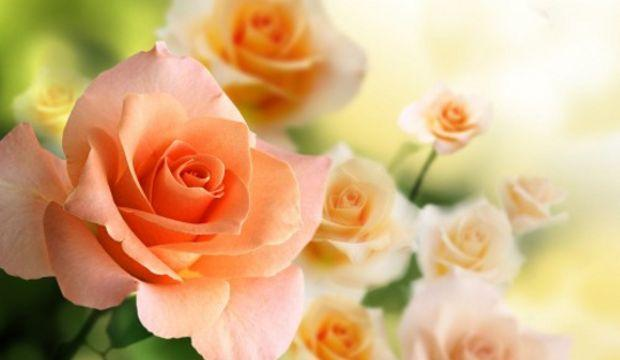Rose: (3, 47, 337, 358), (315, 139, 407, 276), (409, 284, 568, 360), (415, 193, 525, 301), (399, 67, 499, 161), (306, 286, 396, 360), (495, 165, 576, 240)
